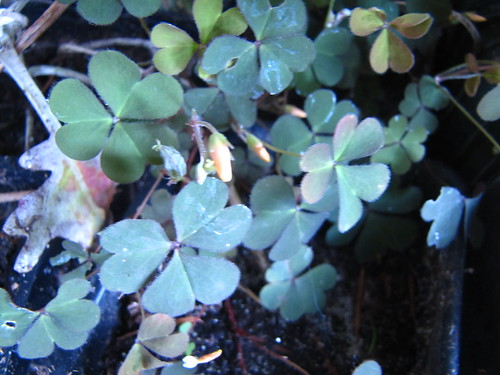oxalis: (37, 31, 460, 316)
